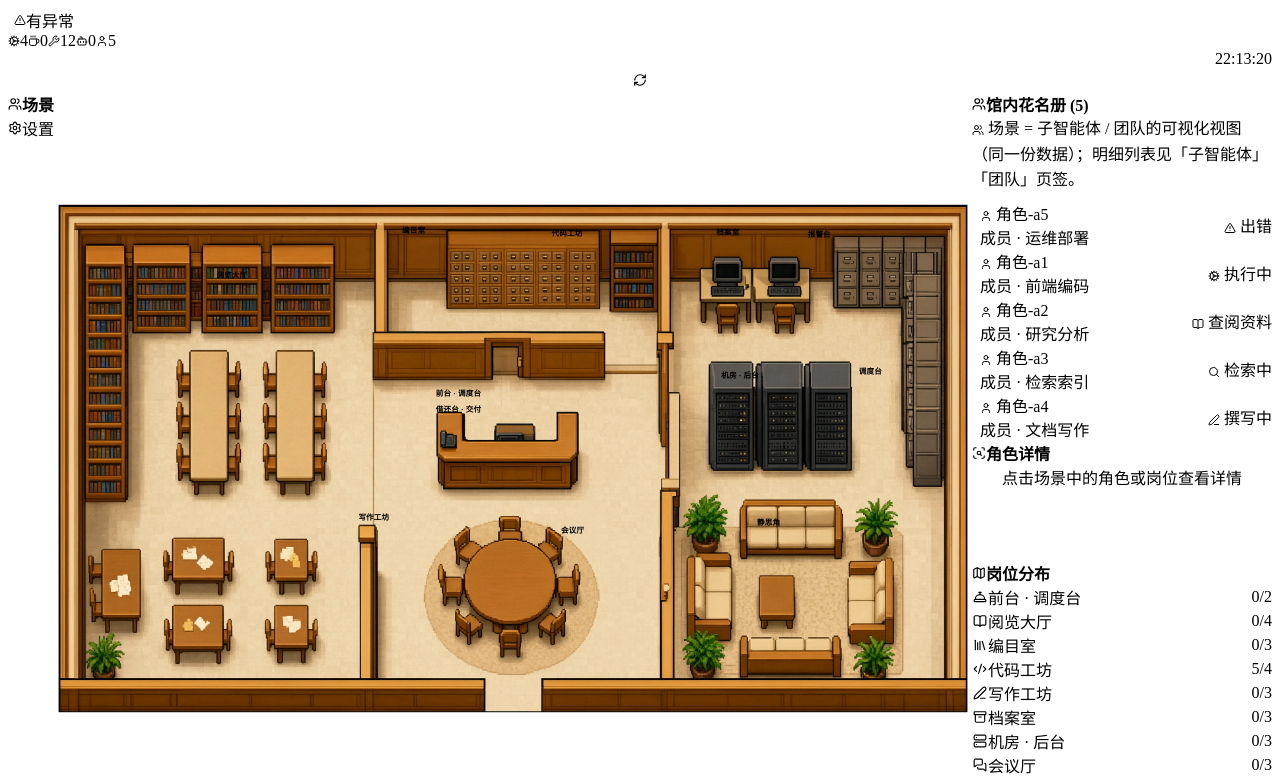
Scenario: LO-UI 监控面板 › LO-UI-11: 场景视图点击岗位 → 详情卡显示岗位职责与在岗角色
Click the button with class "lo-pixel-room" showing "前台 · 调度台" at (459, 393), box [436,389,481,397]
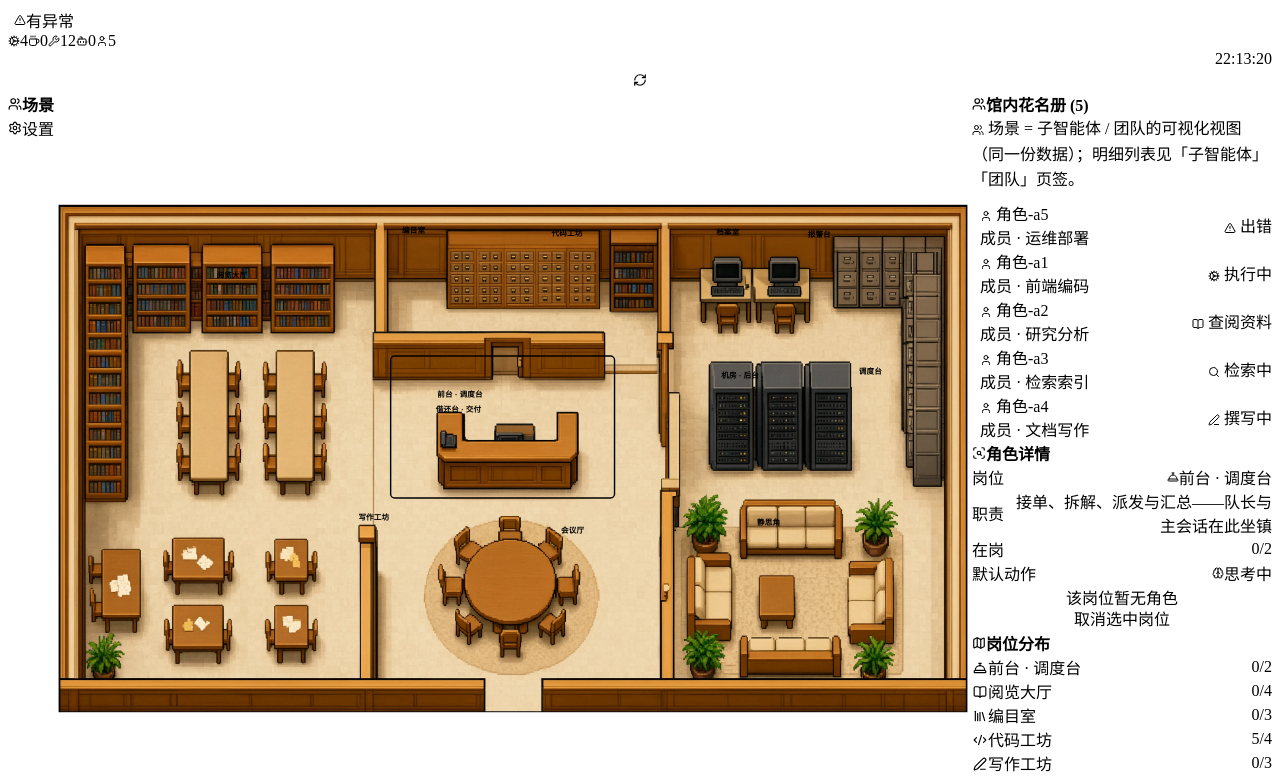
Check: the element with class "lo-zone-occupants" is shown, box [1066,590,1178,607]
Check: the button "取消选中岗位" is shown, box [972,609,1272,631]
Click the list item with class "lo-zones__item" showing "阅览大厅 0/4" at (1020, 693), box [972,679,1272,703]
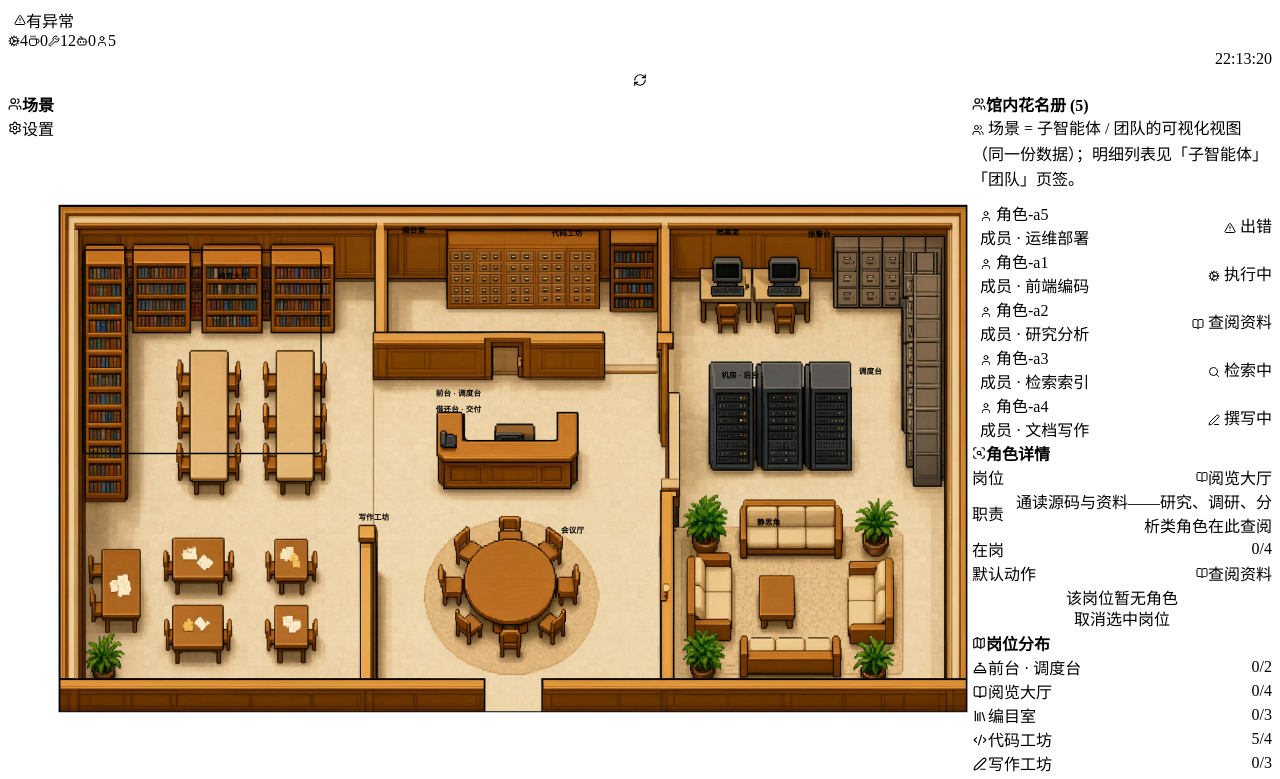
Check: the element with class "lo-zone-occupants" is shown, box [1066,590,1178,607]
Click the list item with class "lo-zones__item" showing "阅览大厅 0/4" at (1020, 693), box [972,679,1272,703]
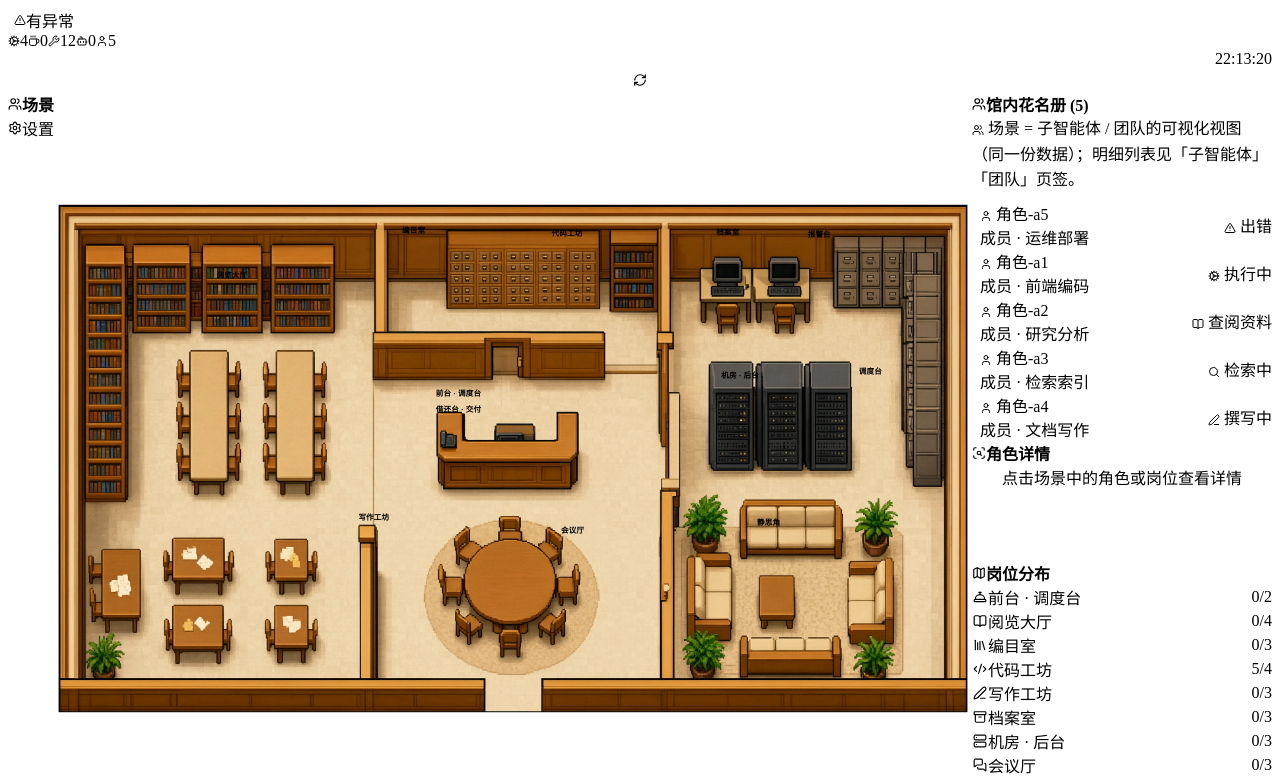
Check: the text "点击场景中的角色或岗位查看详情" is shown, box [1002,470,1242,487]
